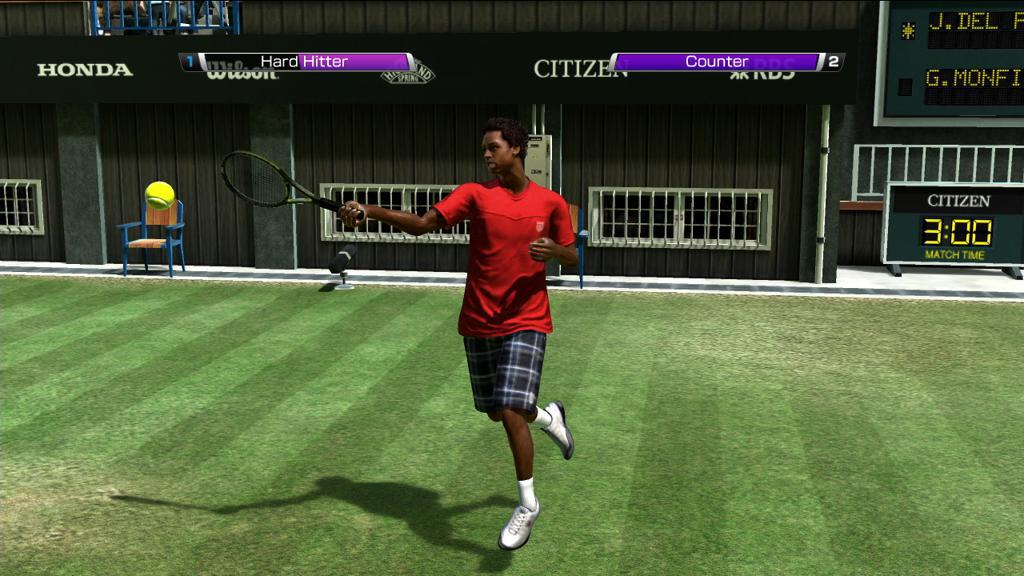face: (482, 135, 513, 173)
